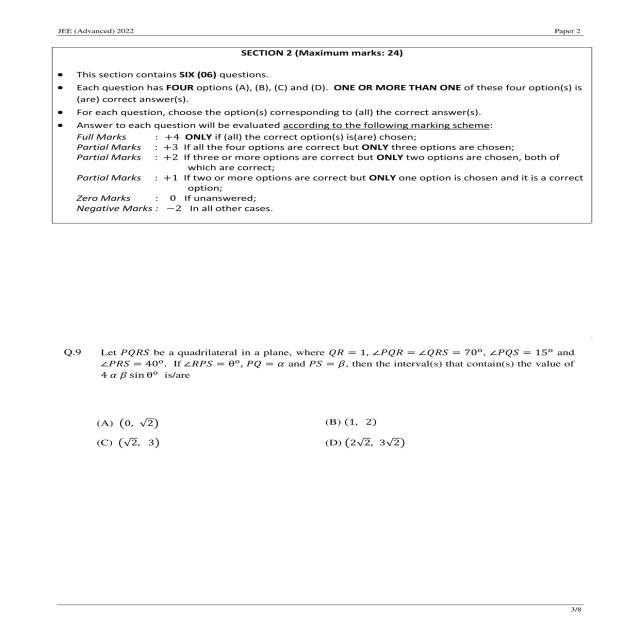Instruction: (35, 37, 619, 229)
Question_Answer_Block: (35, 325, 619, 470)
Question_Block: (35, 325, 619, 470)
Question_Paper_Area: (35, 37, 619, 590)
